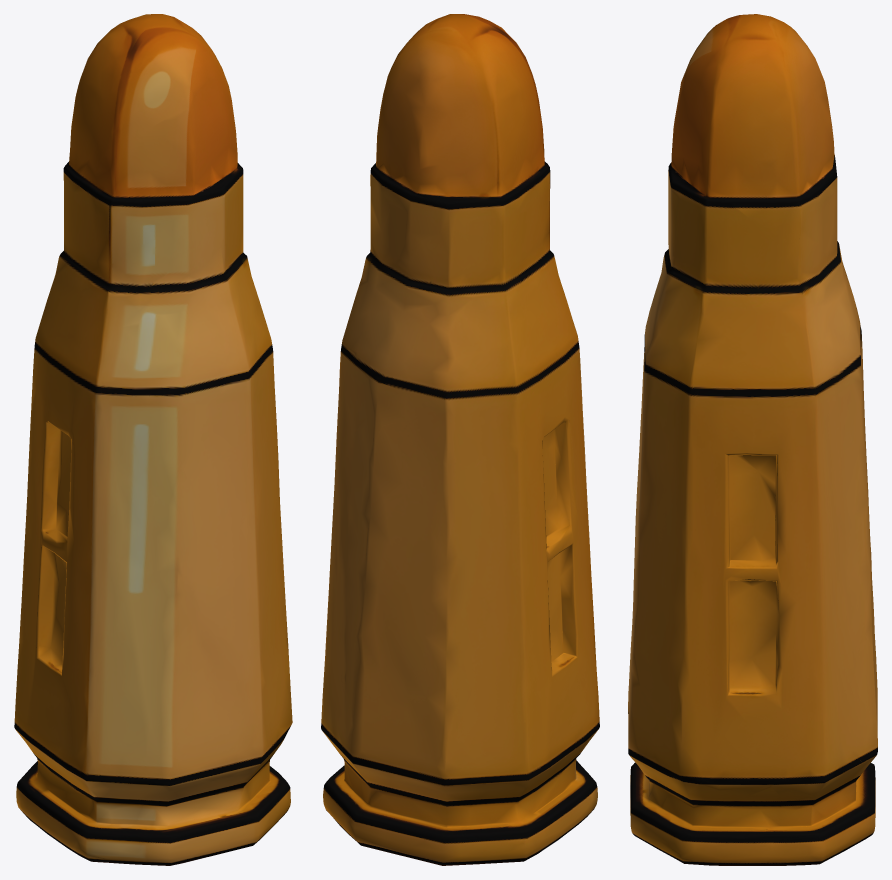
The model's file is BalaSubfusil.fbx.
The picture shows the model from 3 angles, left to right: view 1: azimuth 30°, elevation 25°; view 2: azimuth 150°, elevation 25°; view 3: azimuth 270°, elevation 25°; orthographic projection.
Visible parts, largest first — view 1: tripo_node_a910db7c; view 2: tripo_node_a910db7c; view 3: tripo_node_a910db7c.
Part boxes in pixels (x1,y1,x2,y2): tripo_node_a910db7c: (14, 14, 292, 865); tripo_node_a910db7c: (321, 14, 599, 865); tripo_node_a910db7c: (628, 14, 877, 865).
Bounding box in the file's own units: 28.2 × 28.38 × 100.
1 material, 1 textured.
